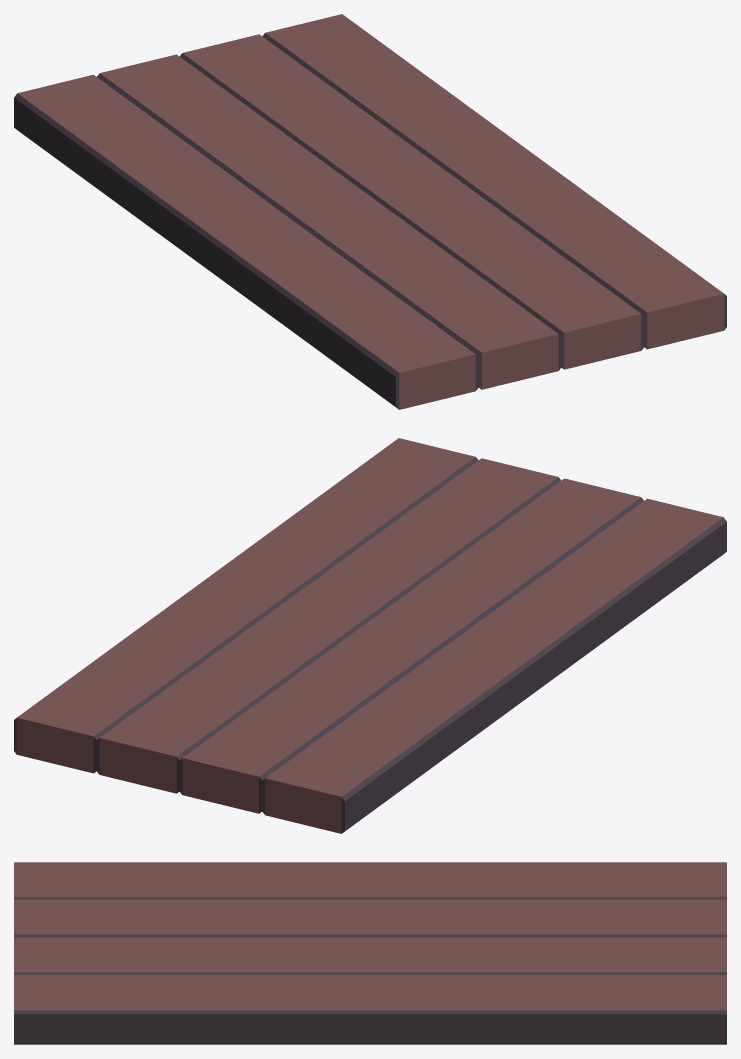
Rendered from Planks Half.fbx.
The picture shows the model from 3 angles, top to bottom: view 1: azimuth 30°, elevation 25°; view 2: azimuth 150°, elevation 25°; view 3: azimuth 270°, elevation 25°; orthographic projection. The views are drawn at different scales.
Parts seen in each view (by area): view 1: Planks Half; view 2: Planks Half; view 3: Planks Half.
Boxes of the visible parts, x1,y1,x2,y2 form: Planks Half: (14,14,726,409); Planks Half: (14,438,726,833); Planks Half: (14,862,726,1044).
Size of the model in its own units: 300 by 32.08 by 600.
